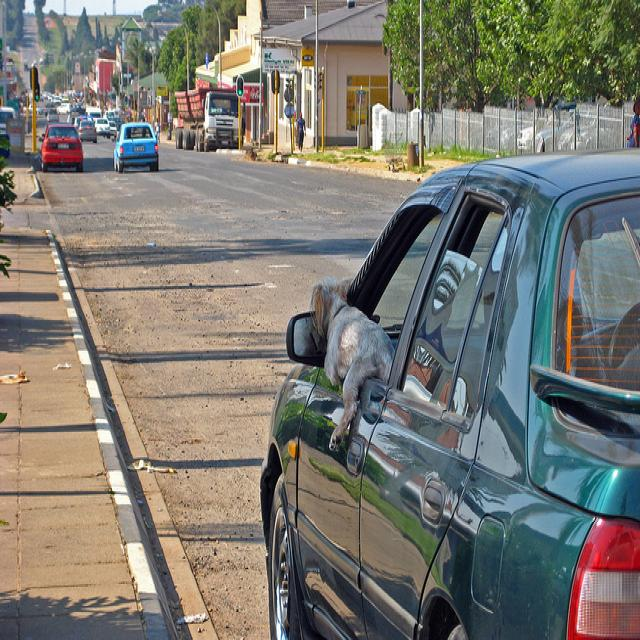Vehicle: (258, 147, 640, 631), (172, 87, 238, 155), (114, 122, 159, 173), (41, 121, 84, 173), (77, 120, 97, 146), (0, 106, 17, 134), (94, 118, 109, 138), (73, 115, 94, 129), (86, 107, 102, 122), (46, 107, 59, 122), (57, 103, 73, 115)
